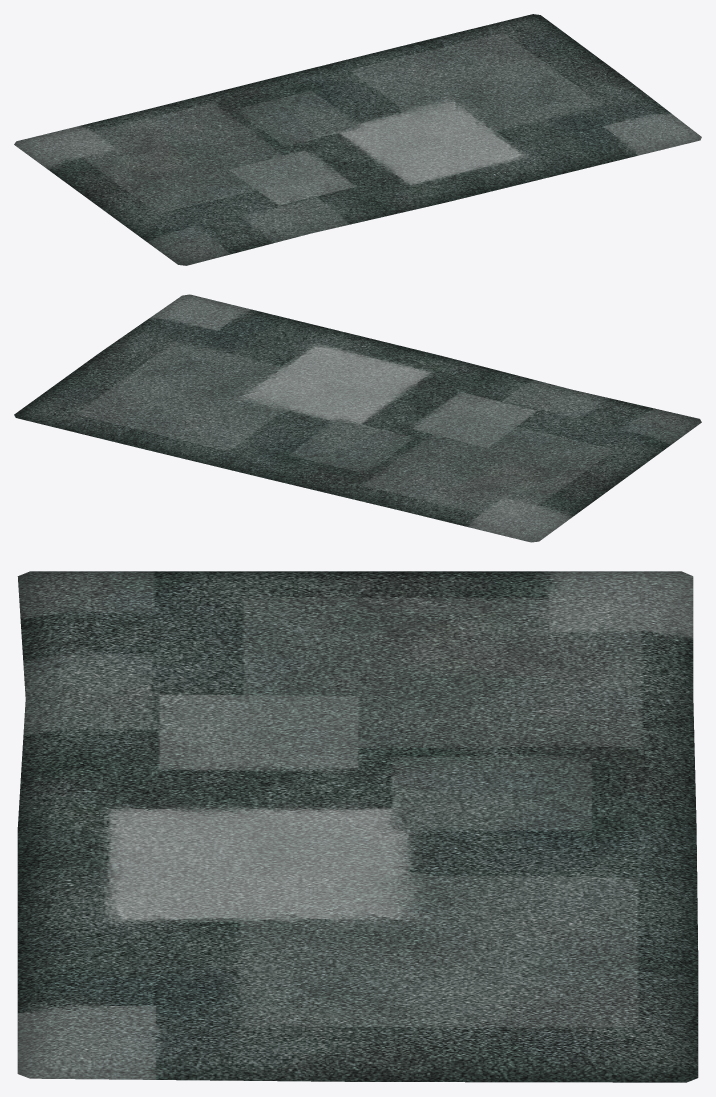
File: Sun_0068_Rug.fbx
3 renders of one model, top to bottom at view 1: azimuth 30°, elevation 25°; view 2: azimuth 150°, elevation 25°; view 3: azimuth 270°, elevation 25°, orthographic. The views are drawn at different scales.
Visible parts, largest first — view 1: Sun_0068_Rug; view 2: Sun_0068_Rug; view 3: Sun_0068_Rug.
Part boxes in pixels (x1,y1,x2,y2): Sun_0068_Rug: (14,14,701,265); Sun_0068_Rug: (14,294,701,542); Sun_0068_Rug: (17,571,698,1082).
Bounding box in the file's own units: 201 × 1.89 × 113.
